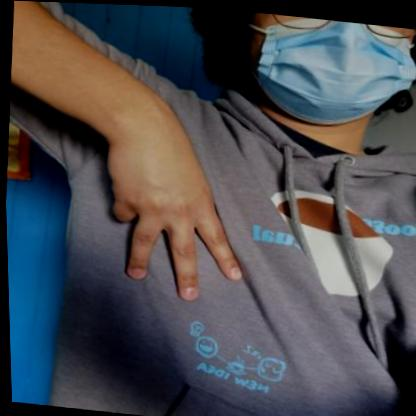M: (68, 119, 268, 322)
